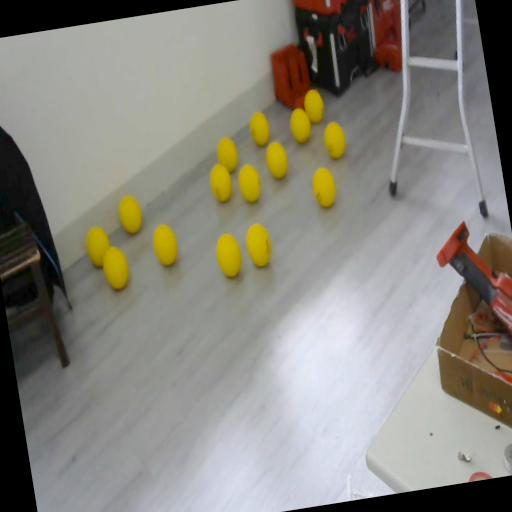FUEL: (98, 242, 132, 292), (212, 229, 244, 279), (242, 219, 274, 269), (148, 220, 180, 267), (114, 191, 146, 235), (308, 166, 338, 210), (235, 160, 264, 204), (262, 140, 290, 180), (213, 133, 240, 174), (320, 119, 347, 160), (207, 162, 234, 203), (287, 104, 313, 144), (300, 86, 326, 124), (246, 109, 272, 146)
